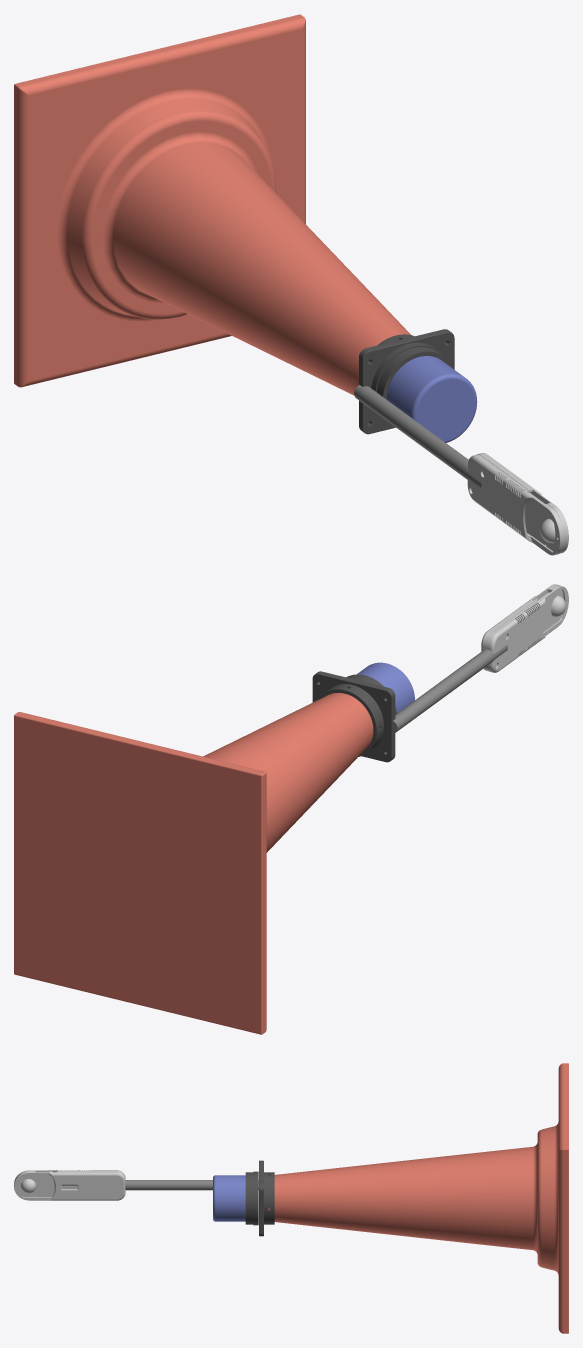
File: SensorPod_v2.fbx
The picture shows the model from 3 angles, top to bottom: view 1: azimuth 30°, elevation 25°; view 2: azimuth 150°, elevation 25°; view 3: azimuth 270°, elevation 25°; orthographic projection. The views are drawn at different scales.
Parts seen in each view (by area): view 1: Body2.001; view 2: Body2.001; view 3: Body2.001.
Part boxes in pixels (<box>): Body2.001: <box>14,14,568,555</box>; Body2.001: <box>14,584,568,1034</box>; Body2.001: <box>14,1063,568,1333</box>.
Size of the model in its own units: 39 by 39 by 106.
